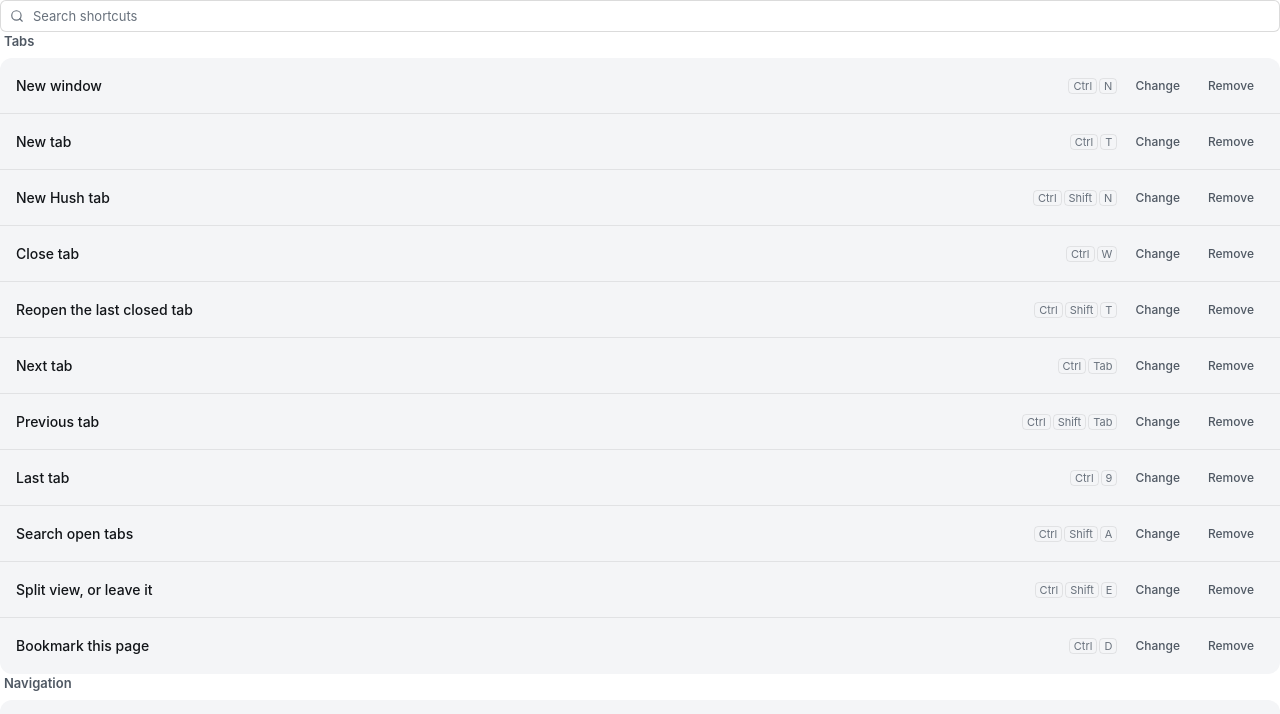
the shortcuts pane › refuses keys that cannot move, and says which
Step 1. Type "print" into the search field labelled "Search shortcuts" → point(640, 16), box left=0, top=0, right=1279, bottom=32
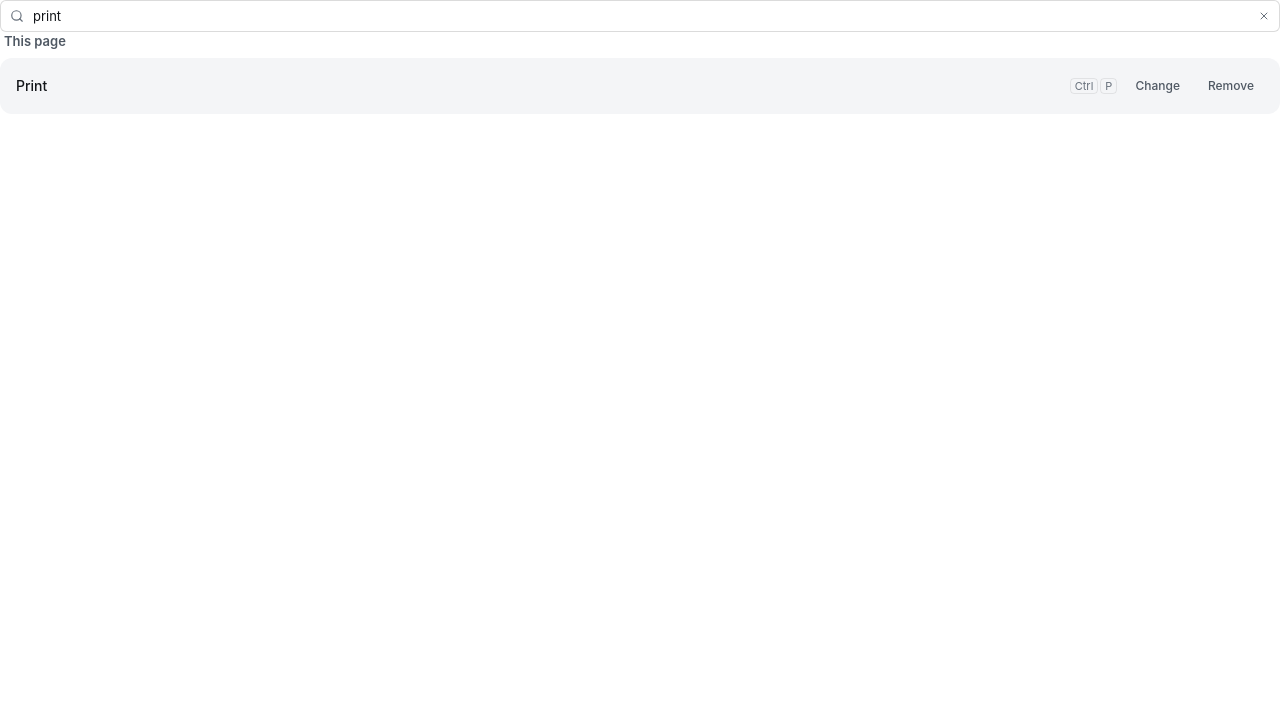
Step 2. Click the button "Change" → point(1158, 86), box left=1125, top=72, right=1190, bottom=100
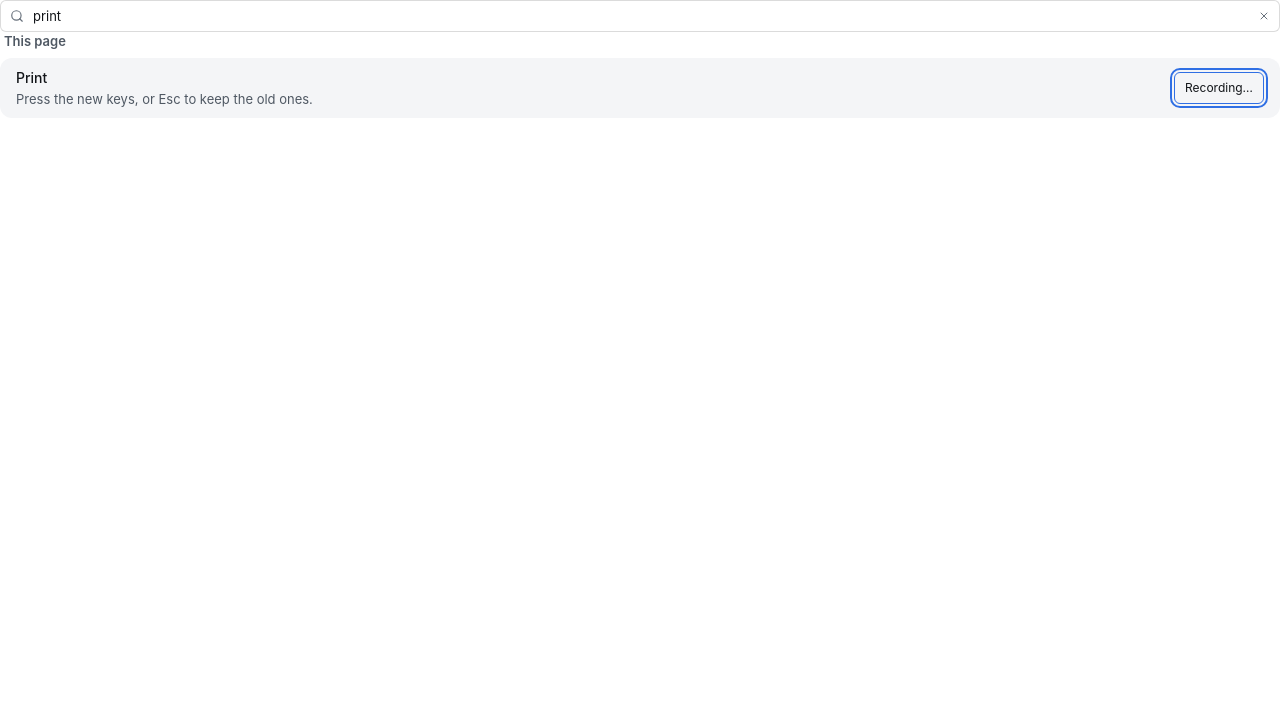
Step 3. Press Digit1 in the button "Recording…", box left=1174, top=72, right=1264, bottom=104
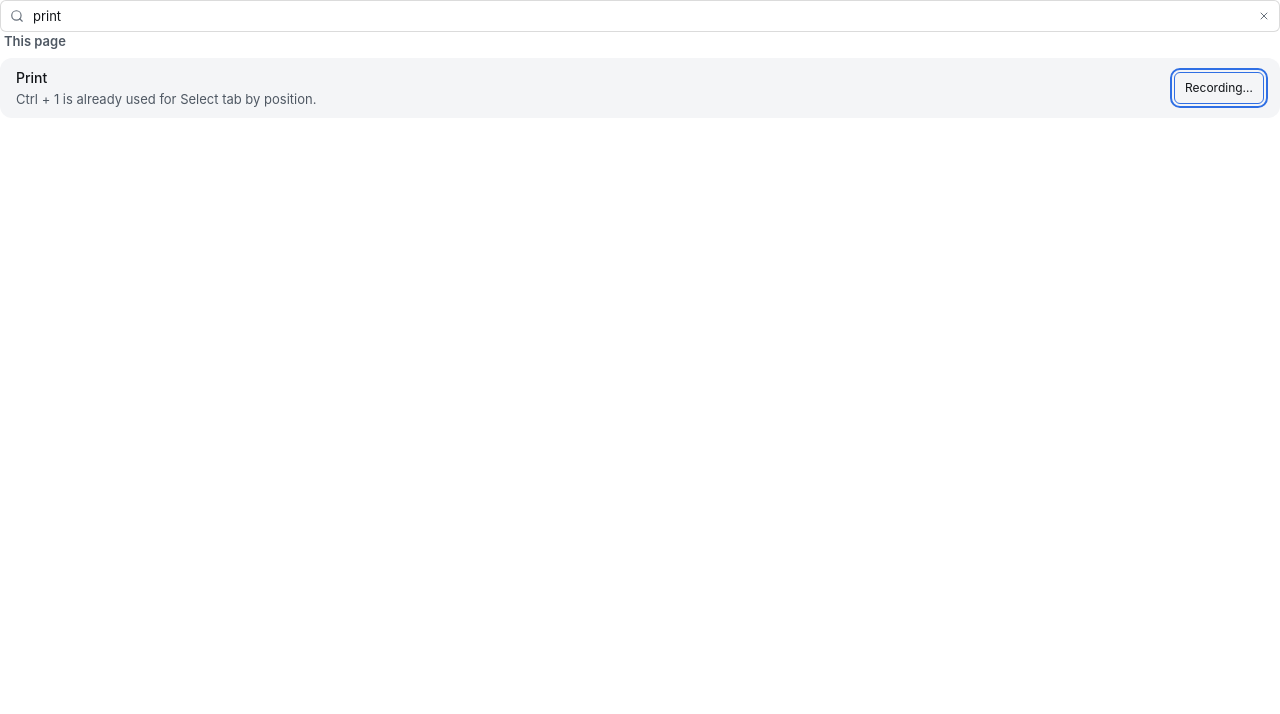
Now the text "Ctrl + 1 is already used for Select tab by position." is shown, box left=16, top=90, right=316, bottom=108
